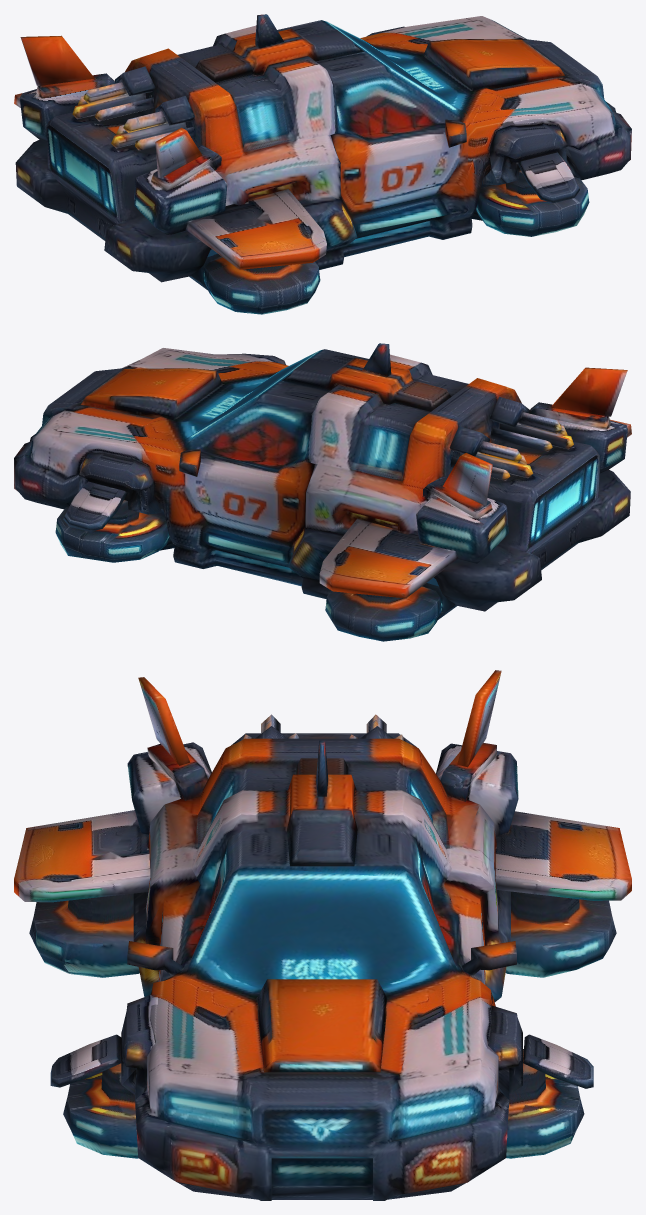
File: flying_car_01.glb
3 renders of one model, top to bottom at view 1: azimuth 30°, elevation 25°; view 2: azimuth 150°, elevation 25°; view 3: azimuth 270°, elevation 25°, orthographic. The views are drawn at different scales.
Parts seen in each view (by area): view 1: tripo_node_5f950808-f475-4583-82da-6d2f394b084f; view 2: tripo_node_5f950808-f475-4583-82da-6d2f394b084f; view 3: tripo_node_5f950808-f475-4583-82da-6d2f394b084f.
Part boxes in pixels (bbox=[...]): tripo_node_5f950808-f475-4583-82da-6d2f394b084f: bbox=[14, 14, 631, 314]; tripo_node_5f950808-f475-4583-82da-6d2f394b084f: bbox=[14, 343, 631, 641]; tripo_node_5f950808-f475-4583-82da-6d2f394b084f: bbox=[14, 670, 631, 1200].
Bounding box in the file's own units: 0.998 × 0.3848 × 0.7871.
Materials: 1 (1 with a texture image).
